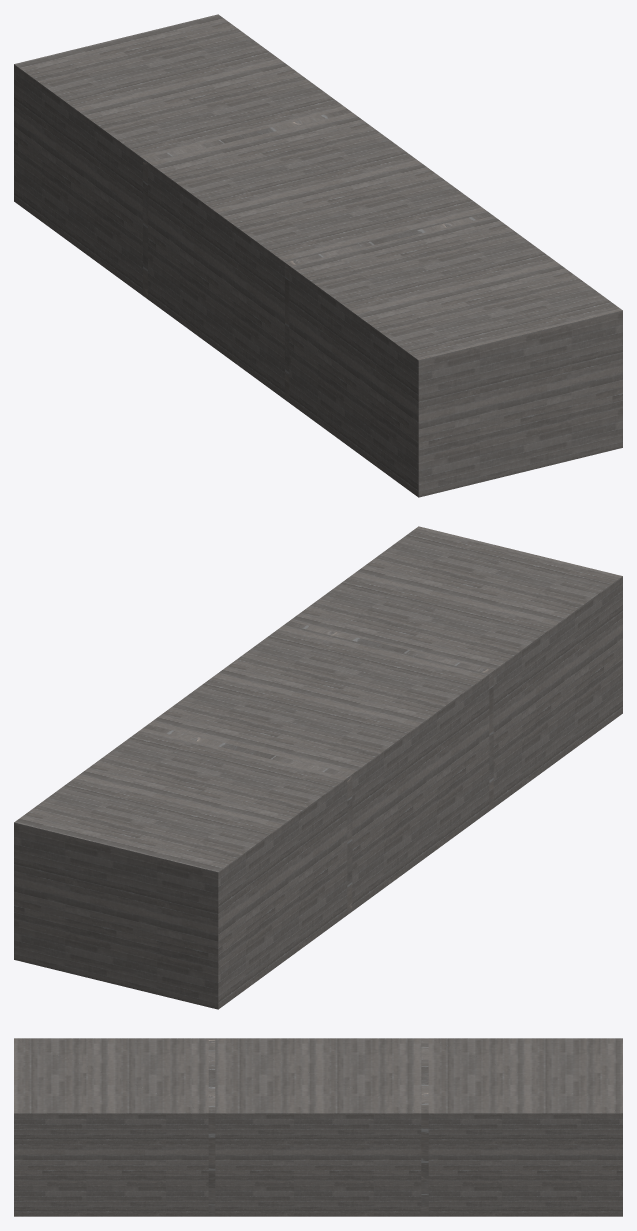
File: demo scene.obj
3 views of the same model, one above another, from view 1: azimuth 30°, elevation 25°; view 2: azimuth 150°, elevation 25°; view 3: azimuth 270°, elevation 25° (orthographic). The views are drawn at different scales.
Parts seen in each view (by area): view 1: walls_Cube.002; view 2: walls_Cube.002; view 3: walls_Cube.002.
Part boxes in pixels (x1,y1,x2,y2): walls_Cube.002: (14,14,622,497); walls_Cube.002: (14,526,622,1009); walls_Cube.002: (14,1038,622,1216).
Bounding box in the file's own units: 10 × 6.45 × 34.3.
5 materials, 5 textured.
